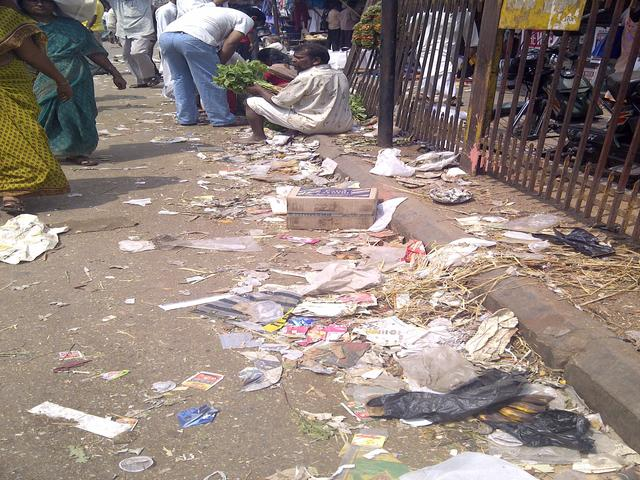garbage: (198, 167, 540, 450)
